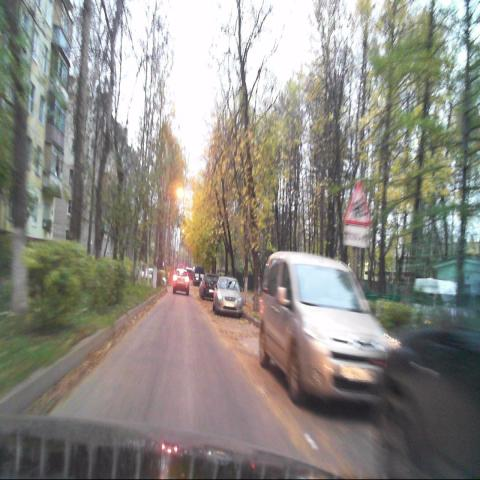1_23: (343, 181, 372, 226)
